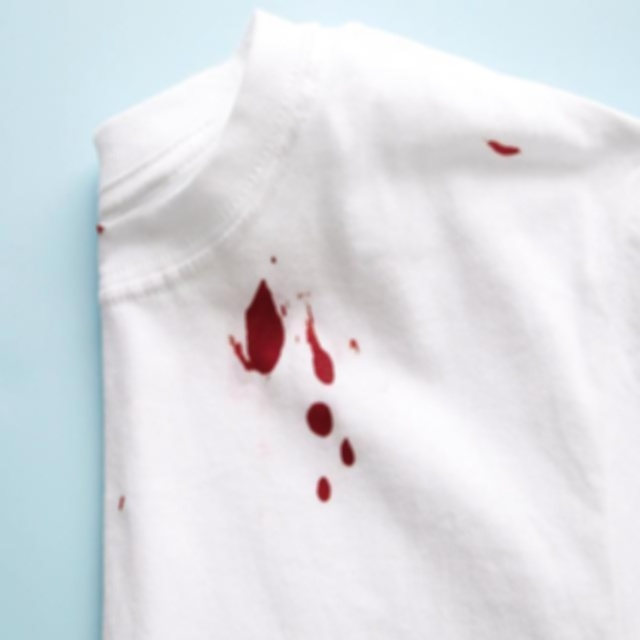blood: (301, 403, 358, 503), (239, 277, 290, 377), (303, 313, 335, 385)
